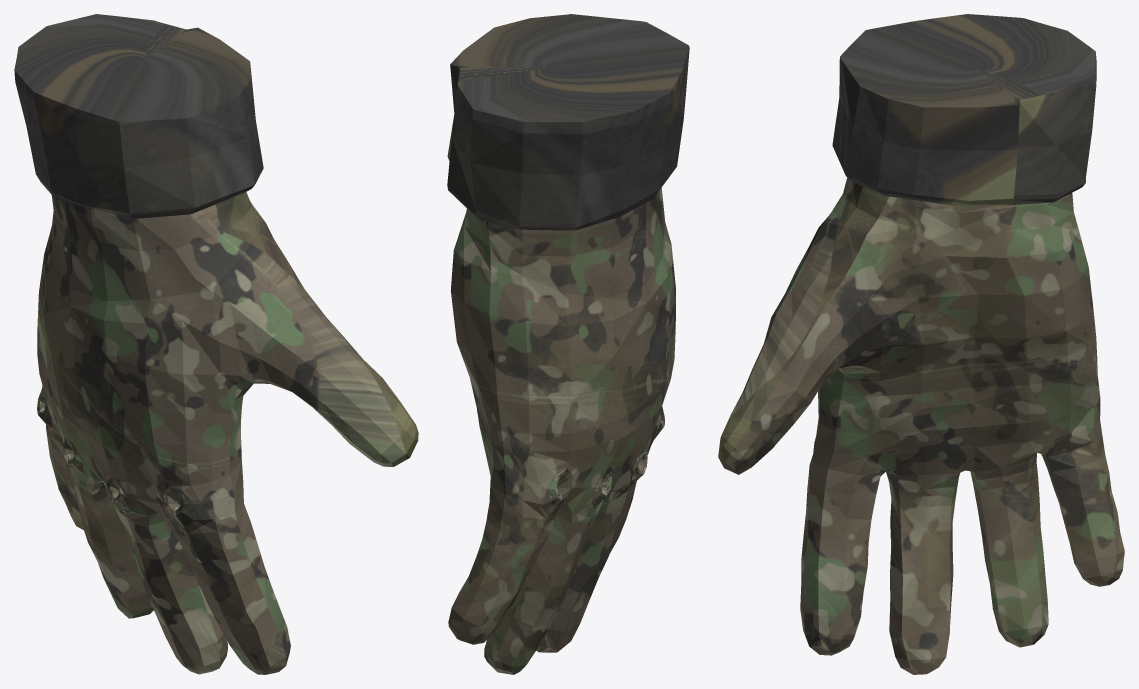
File: glove_right_open.obj
The picture shows the model from 3 angles, left to right: view 1: azimuth 30°, elevation 25°; view 2: azimuth 150°, elevation 25°; view 3: azimuth 270°, elevation 25°; orthographic projection. The views are drawn at different scales.
Size of the model in its own units: 0.1121 by 0.2413 by 0.151.
1 material, 1 textured.
